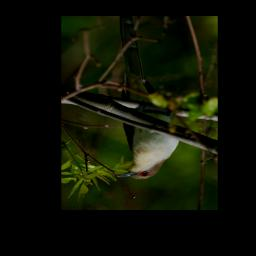Cuckoo: (115, 16, 182, 181)
